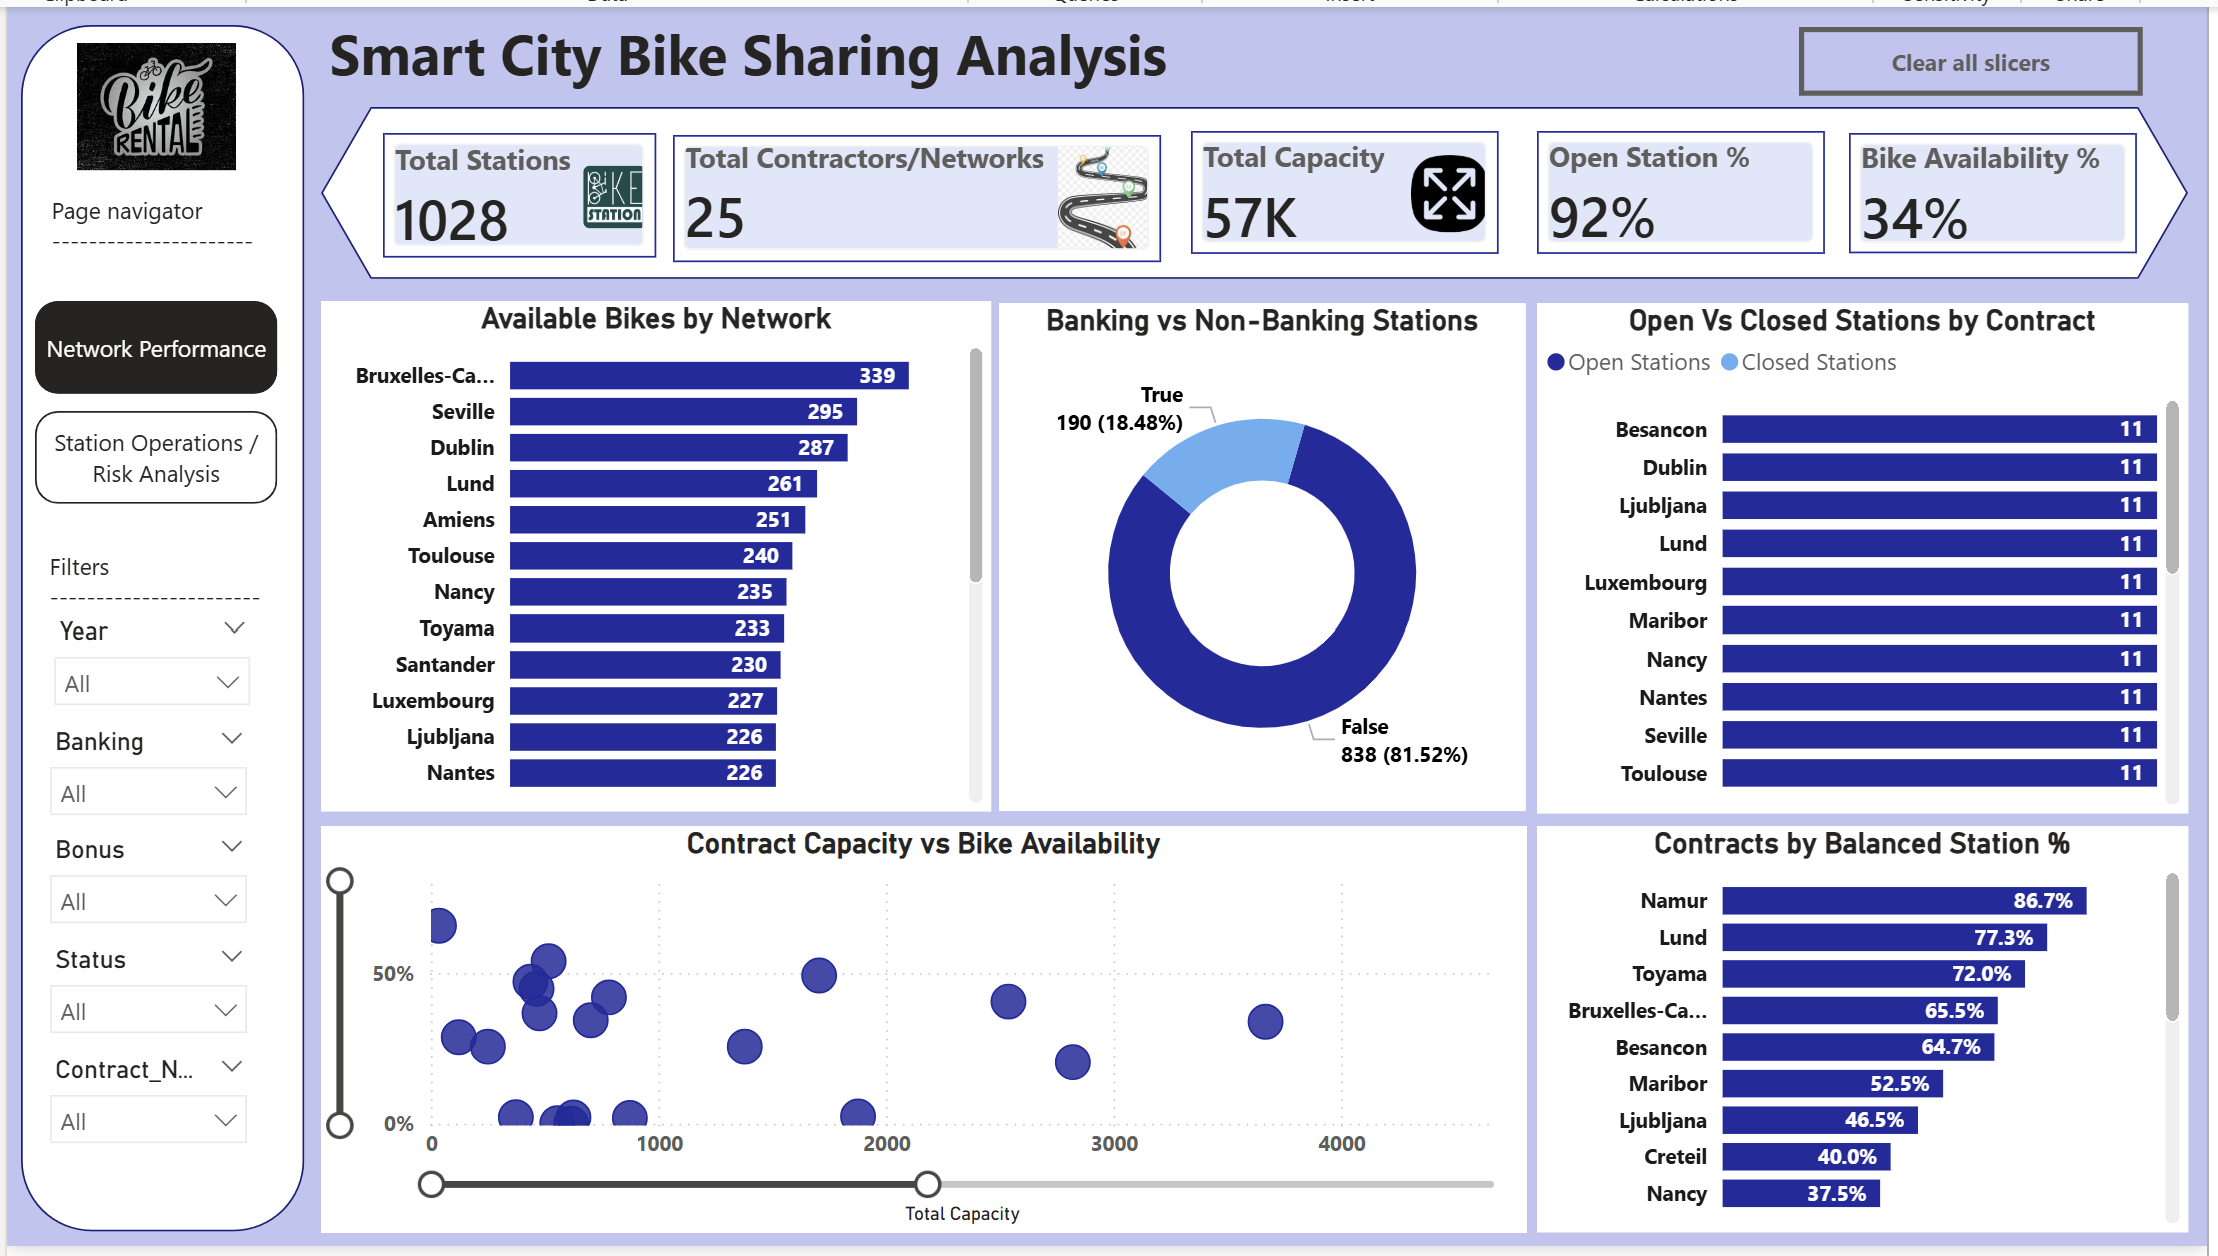

The page's visual inventory and layout, read from the dashboard file:
{"tool":"powerbi","page":{"name":"Network Performance","canvas":[1280,720],"ordinal":0},"visuals":[{"type":"textbox","box":[182.9,0,506.5,74.6],"z":0},{"type":"hundredPercentStackedBarChart","title":"Open  Vs Closed Stations by Contract","fields":{"Y":["DAX_Measures.Open Stations","DAX_Measures.Closed Stations"],"Category":["Dim_Contract.Contract_Name"]},"box":[890,172.5,378.8,296.2],"z":1000},{"type":"barChart","title":"Available Bikes by Network","fields":{"Y":["DAX_Measures.Total Capacity"],"Category":["Dim_Contract.Contract_Name"]},"box":[182.5,171.2,390,296.2],"z":2000},{"type":"shape","box":[8.4,10.8,164.8,701.4],"z":3000},{"type":"image","box":[40.8,21.5,92.3,74],"z":4000},{"type":"pageNavigator","title":"Page Navigator","box":[16.2,171.2,141.2,118.8],"z":5000},{"type":"slicer","fields":{"Values":["Dim_Bike_Station.Banking"]},"box":[15.6,412.6,134.7,63.8],"z":6000},{"type":"textbox","box":[20,311.2,142.5,50],"z":7000},{"type":"textbox","box":[20.5,103.5,142,46.9],"z":8000},{"type":"shape","box":[182.5,58.8,1086.2,100],"z":9000},{"type":"cardVisual","fields":{"Data":["DAX_Measures.Total Stations"]},"box":[218.8,73.8,158.8,72.5],"z":10000},{"type":"cardVisual","fields":{"Data":["DAX_Measures.Total Contractors/Networks"]},"box":[387.5,75,283.8,73.8],"z":11000},{"type":"cardVisual","fields":{"Data":["DAX_Measures.Open Station %"]},"box":[890,72.5,167.5,71.2],"z":12000},{"type":"cardVisual","fields":{"Data":["DAX_Measures.Total Capacity"]},"box":[688.8,72.5,178.8,71.2],"z":13000},{"type":"slicer","fields":{"Values":["Dim_Bike_Station.Bonus"]},"box":[15.6,476.4,134.7,63.8],"z":14000},{"type":"slicer","fields":{"Values":["Fact_Bike_Sharing.Status"]},"box":[15.6,540.2,134.7,63.8],"z":15000},{"type":"slicer","fields":{"Values":["Fact_Bike_Sharing.Contract_Name"]},"box":[15.6,603.9,134.7,63.8],"z":16000},{"type":"cardVisual","fields":{"Data":["DAX_Measures.Bike Availability %"]},"box":[1071.2,73.8,167.5,70],"z":17000},{"type":"scatterChart","title":"Contract Capacity vs Bike Availability","fields":{"X":["DAX_Measures.Total Capacity"],"Y":["DAX_Measures.Bike Availability %"],"Category":["Dim_Contract.Contract_Name"],"Size":["DAX_Measures.Total Stations"]},"box":[182.5,476.2,701.2,236.2],"z":18000},{"type":"donutChart","title":"Banking vs Non-Banking Stations","fields":{"Category":["Dim_Bike_Station.Banking"],"Y":["Count(Dim_Bike_Station.Station_ID)"]},"box":[577.5,172.5,306.2,295],"z":19000},{"type":"barChart","title":"Contracts by Balanced Station %","fields":{"Category":["Dim_Contract.Contract_Name"],"Y":["DAX_Measures.Balanced Station %"]},"box":[890,476.2,378.8,236.2],"z":20000},{"type":"slicer","fields":{"Values":["DateTable.Year"]},"box":[17.5,348.8,133.8,63.8],"z":21000},{"type":"actionButton","box":[1042.5,11.2,200,40],"z":22000}]}

Visuals, with their boxes on the page's 1280x720 design canvas (x1, y1, x2, y2). These are canvas units, not pixel positions in the 2218x1256 screenshot, which may show the page scaled, cropped or inside an application window:
textbox: 183:0:689:75
"Open  Vs Closed Stations by Contract" hundredPercentStackedBarChart: 890:172:1269:469
"Available Bikes by Network" barChart: 182:171:572:467
shape: 8:11:173:712
image: 41:22:133:96
"Page Navigator" pageNavigator: 16:171:157:290
slicer - Dim_Bike_Station.Banking: 16:413:150:476
textbox: 20:311:162:361
textbox: 20:104:162:150
shape: 182:59:1269:159
cardVisual - DAX_Measures.Total Stations: 219:74:378:146
cardVisual - DAX_Measures.Total Contractors/Networks: 388:75:671:149
cardVisual - DAX_Measures.Open Station %: 890:72:1058:144
cardVisual - DAX_Measures.Total Capacity: 689:72:868:144
slicer - Dim_Bike_Station.Bonus: 16:476:150:540
slicer - Fact_Bike_Sharing.Status: 16:540:150:604
slicer - Fact_Bike_Sharing.Contract_Name: 16:604:150:668
cardVisual - DAX_Measures.Bike Availability %: 1071:74:1239:144
"Contract Capacity vs Bike Availability" scatterChart: 182:476:884:712
"Banking vs Non-Banking Stations" donutChart: 578:172:884:468
"Contracts by Balanced Station %" barChart: 890:476:1269:712
slicer - DateTable.Year: 18:349:151:413
actionButton: 1042:11:1242:51
